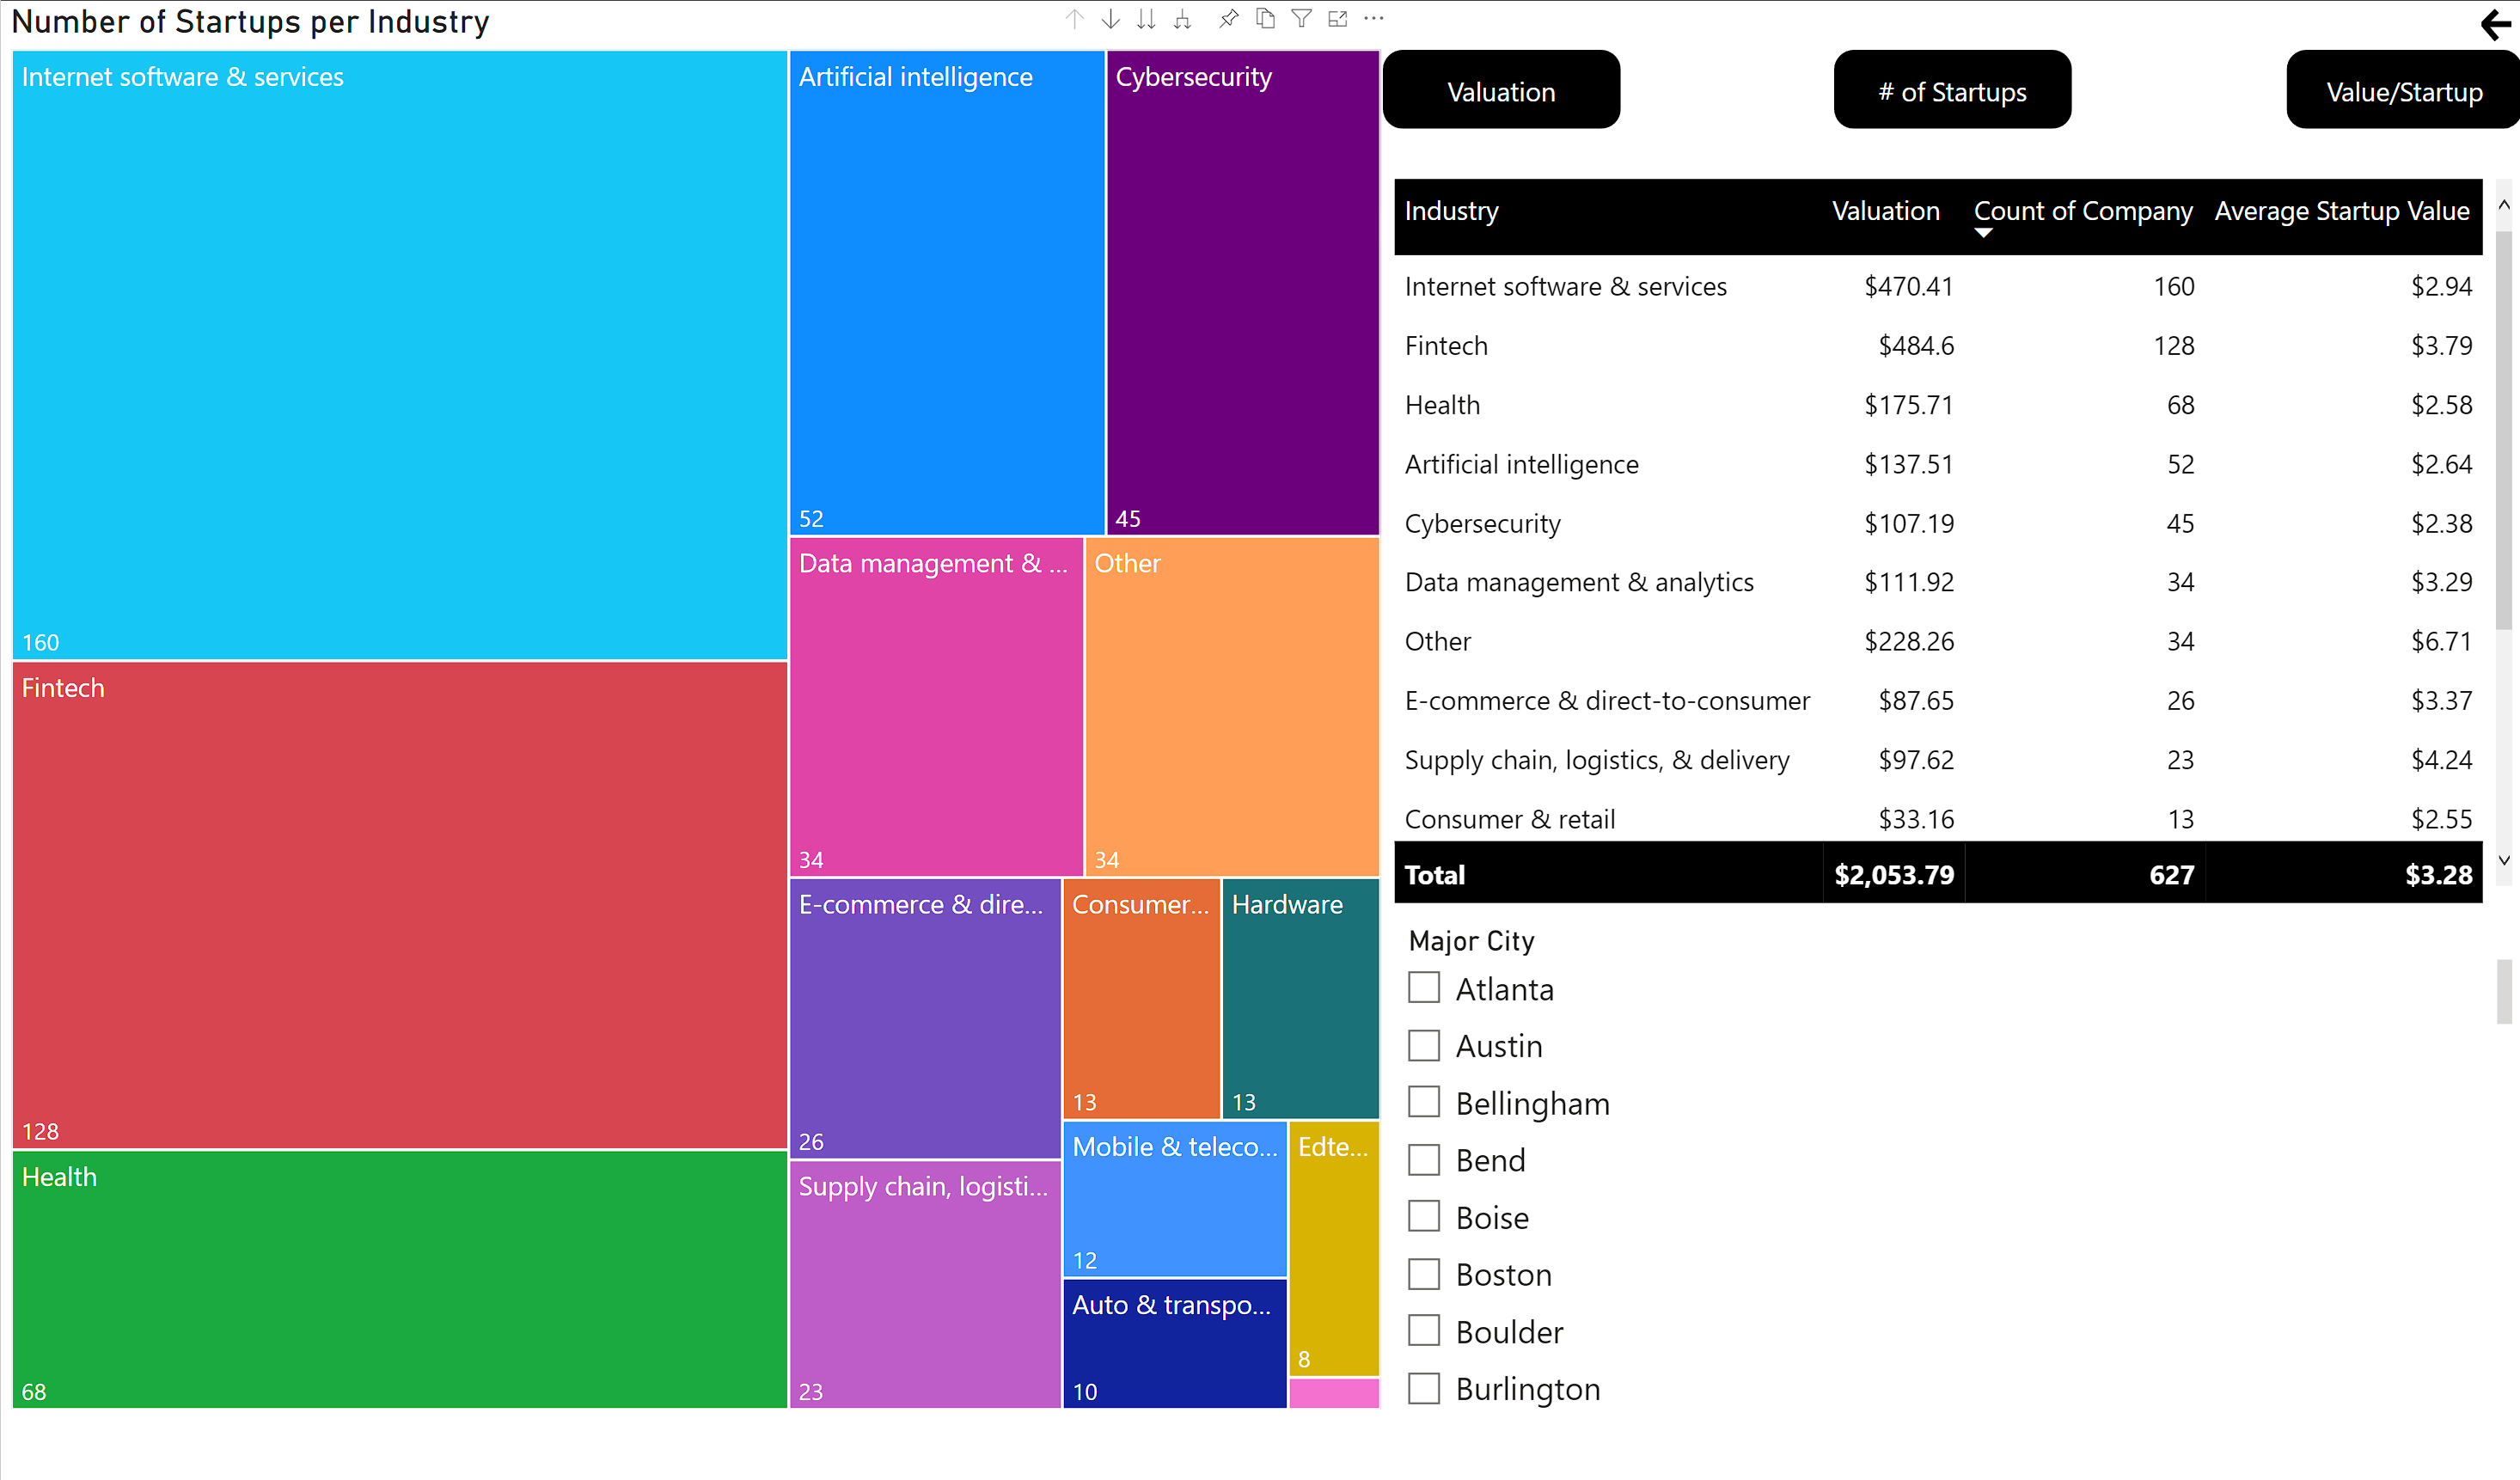

What the dashboard file says about the page in this screenshot:
{"tool":"powerbi","page":{"name":"Industries","canvas":[1280,720],"ordinal":3},"visuals":[{"type":"treemap","title":"Number of Startups per Industry","fields":{"Group":["Startups.Industry","Startups.Company"],"Values":["CountNonNull(Startups.Company)"]},"box":[0,0,705.1,719.8],"z":0},{"type":"tableEx","fields":{"Values":["Startups.Industry","Sum(Startups.Valuation)","Startups.Company","Major Cities Lookup.Average Startup Value"]},"box":[701.5,85.3,578.5,377.6],"z":1000},{"type":"slicer","fields":{"Values":["Major Cities Lookup.Major City"]},"box":[701.5,462.9,578.5,256.5],"z":4000},{"type":"actionButton","box":[701.5,24.7,120.5,40.2],"z":5000},{"type":"actionButton","box":[930.1,24.7,120.5,40.2],"z":6000},{"type":"actionButton","box":[1159.8,24.7,120.2,40.1],"z":7000},{"type":"actionButton","box":[1254.6,0,25.3,24.7],"z":8000}]}

Visuals, with their boxes on the page's 1280x720 design canvas (x1, y1, x2, y2). These are canvas units, not pixel positions in the 2520x1480 screenshot, which may show the page scaled, cropped or inside an application window:
"Number of Startups per Industry" treemap: {"x1": 0, "y1": 0, "x2": 705, "y2": 720}
tableEx - Startups.Industry x Sum(Startups.Valuation): {"x1": 702, "y1": 85, "x2": 1280, "y2": 463}
slicer - Major Cities Lookup.Major City: {"x1": 702, "y1": 463, "x2": 1280, "y2": 719}
actionButton: {"x1": 702, "y1": 25, "x2": 822, "y2": 65}
actionButton: {"x1": 930, "y1": 25, "x2": 1051, "y2": 65}
actionButton: {"x1": 1160, "y1": 25, "x2": 1280, "y2": 65}
actionButton: {"x1": 1255, "y1": 0, "x2": 1280, "y2": 25}
